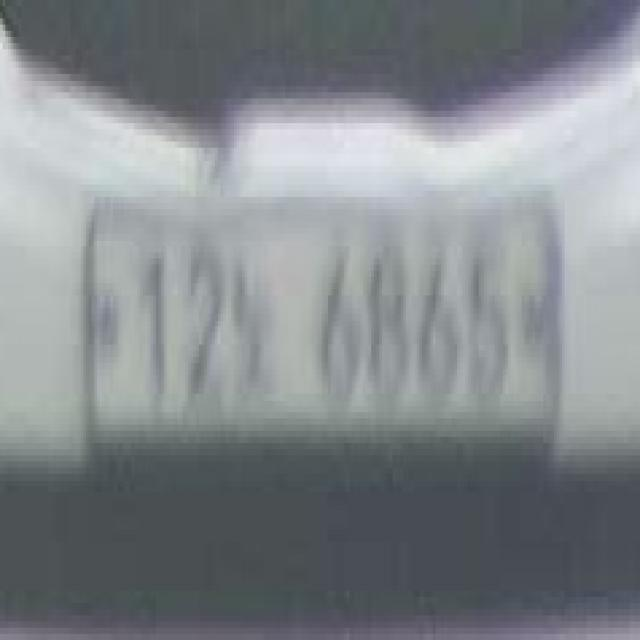1: (132, 240, 175, 412)
2: (180, 234, 229, 418)
5: (465, 234, 519, 406)
6: (306, 234, 366, 412), (417, 240, 462, 418)
8: (366, 228, 414, 406)
license_plate: (80, 185, 564, 480)
no: (228, 252, 288, 418)
